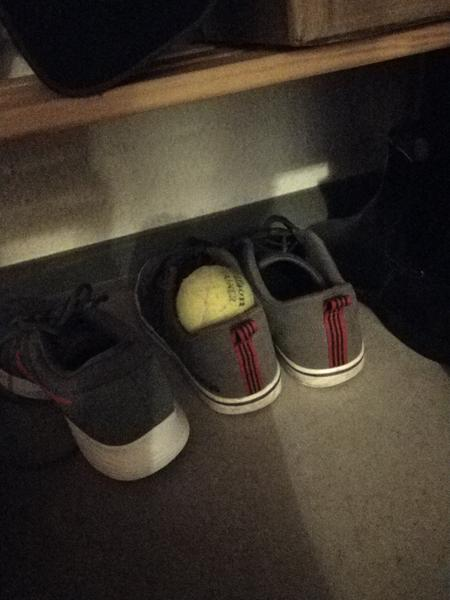Tennisball: (175, 260, 258, 335)
